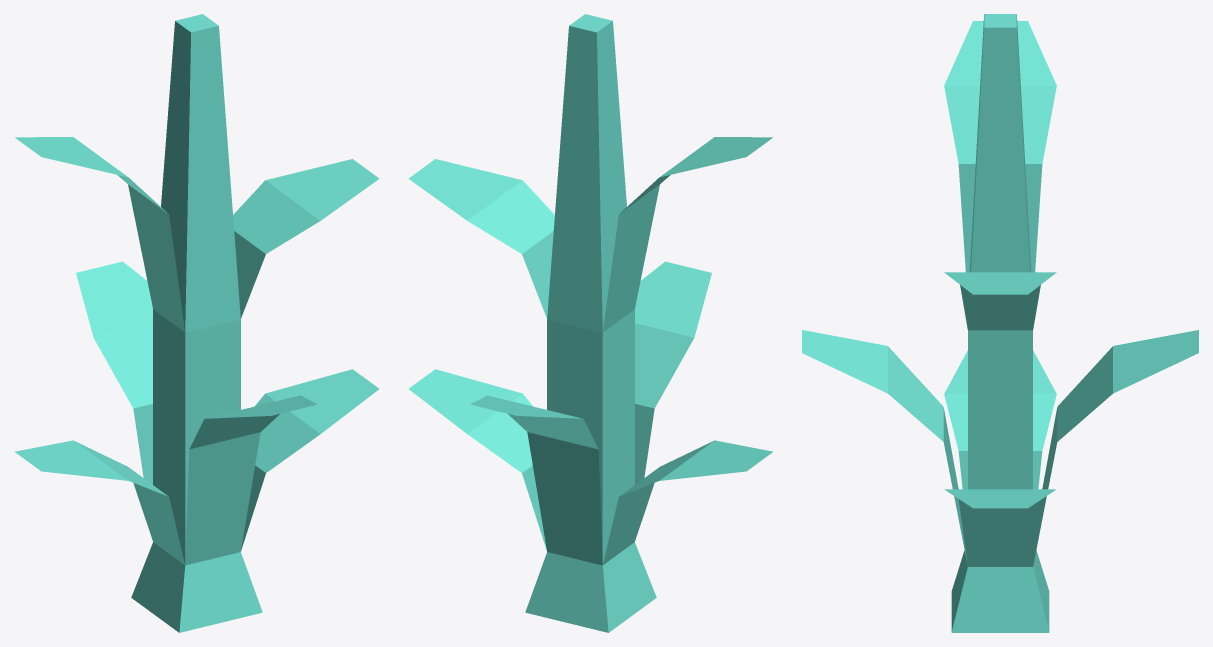
The model's file is corn_a.glb.
3 views of the same model, side by side, from view 1: azimuth 30°, elevation 25°; view 2: azimuth 150°, elevation 25°; view 3: azimuth 270°, elevation 25° (orthographic).
Parts seen in each view (by area): view 1: crops_cornStageA; view 2: crops_cornStageA; view 3: crops_cornStageA.
Part boxes in pixels (x1,y1,x2,y2): crops_cornStageA: (15, 14, 379, 632); crops_cornStageA: (408, 14, 772, 632); crops_cornStageA: (802, 14, 1198, 632).
Size of the model in its own units: 0.3042 by 0.5 by 0.3042.
